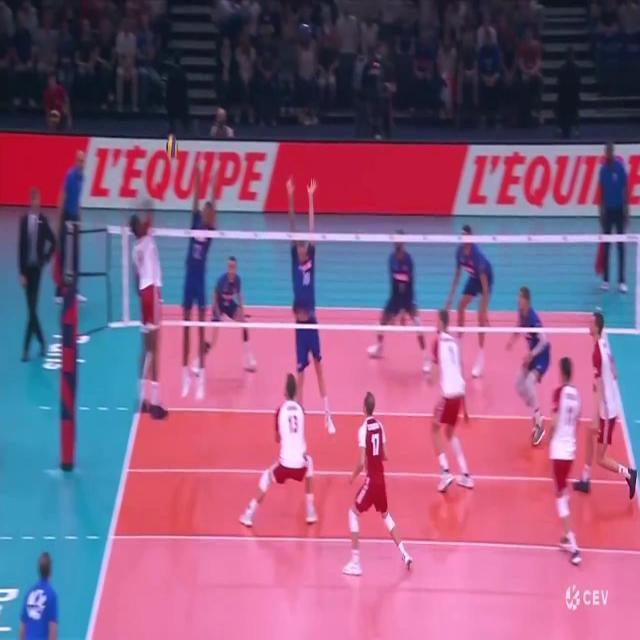volleyball: (166, 136, 180, 160)
